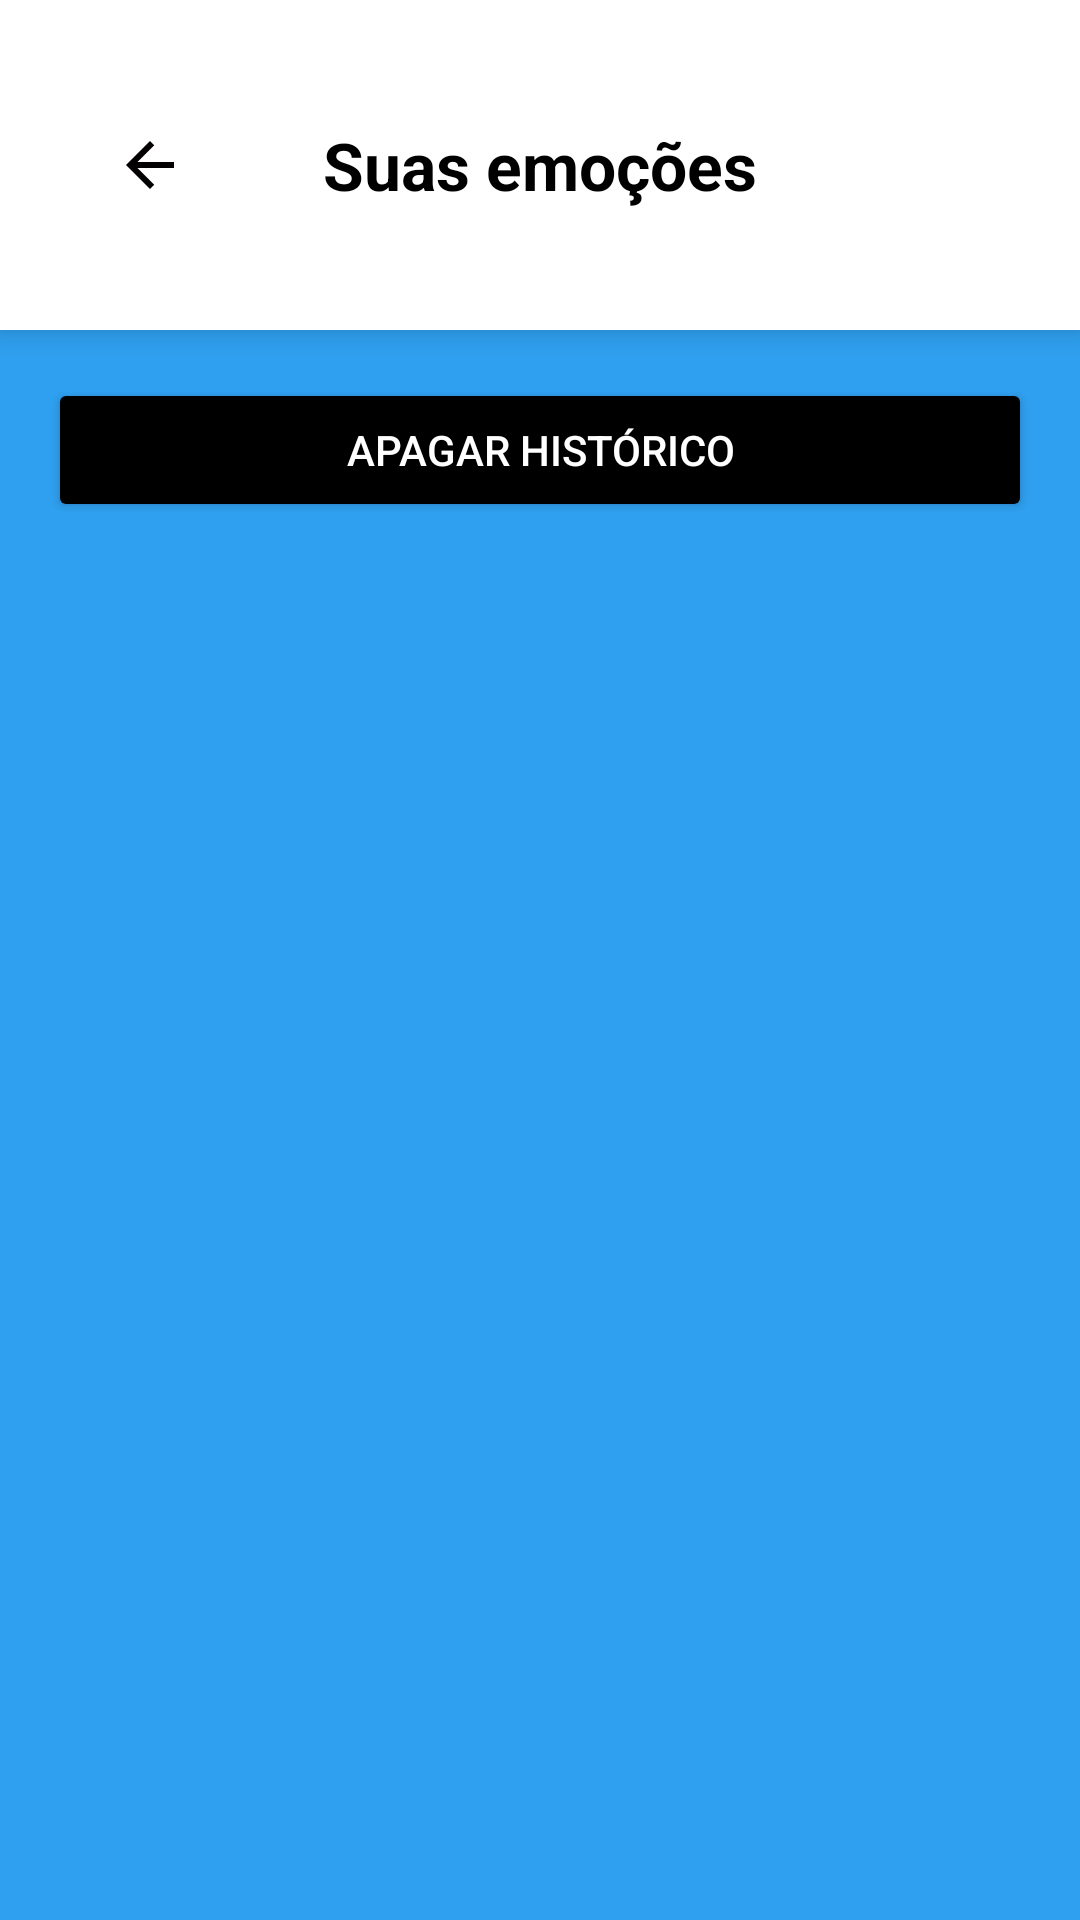

Where to tap for icons on this 1080px×1920px app screen, as [x,y]:
Voltar: [150,165]
